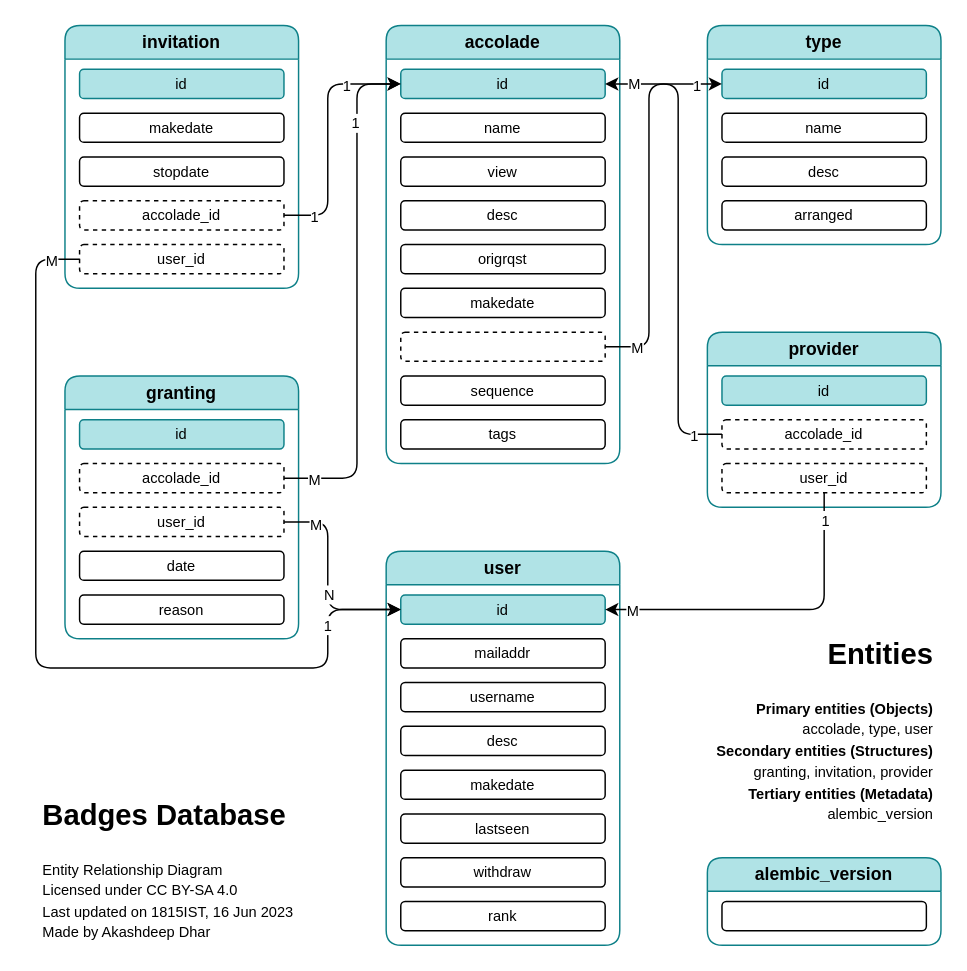
The diagram is 967 pixels wide and 971 high, and some of its shapes have lost their labels. The shapes that lost their labels are listed below. From the top down, each one's centre as x and y in pixels, then its label:
the point at 502,346: type_id
the point at 823,915: version_num
